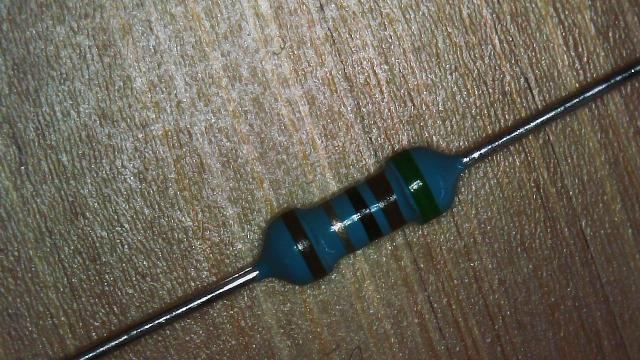black: (346, 186, 382, 243)
brown: (281, 210, 326, 280), (366, 172, 405, 230)
gold: (322, 200, 352, 252)
green: (392, 150, 440, 220)
resistor: (258, 136, 466, 293)
